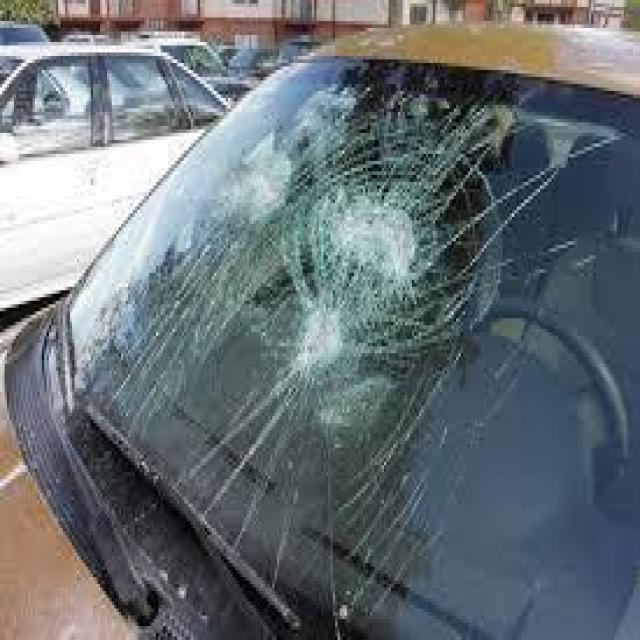damaged: (60, 84, 630, 636)
